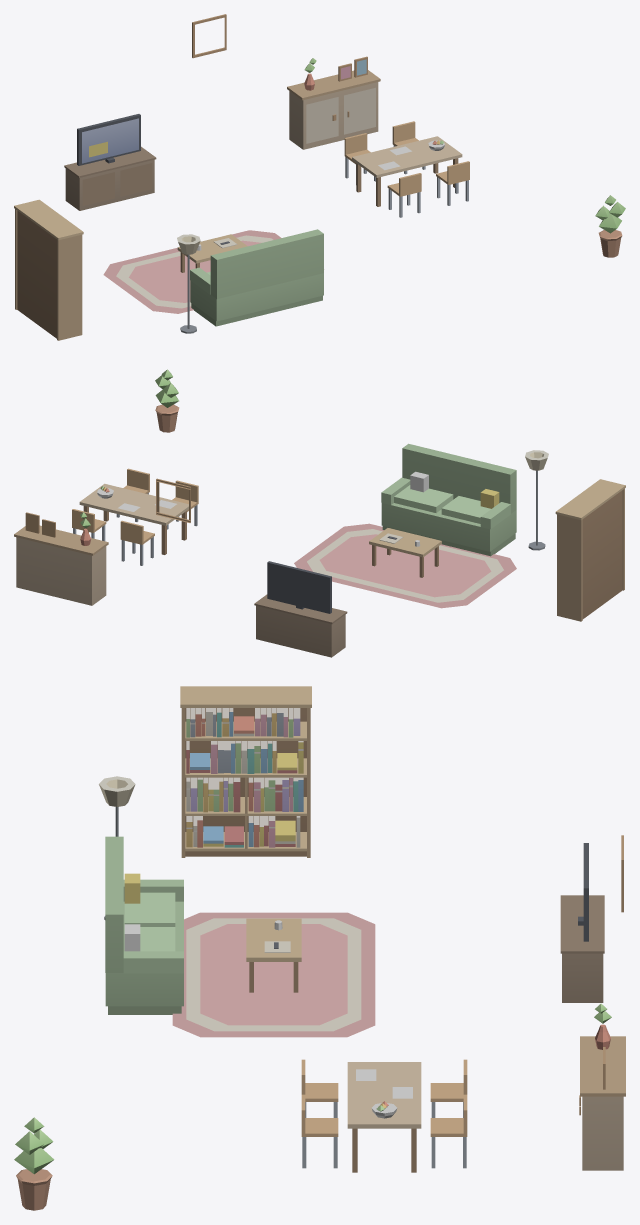
The model's file is rumah3_interior_props.glb.
3 renders of one model, top to bottom at view 1: azimuth 30°, elevation 25°; view 2: azimuth 150°, elevation 25°; view 3: azimuth 270°, elevation 25°, orthographic. The views are drawn at different scales.
Parts seen in each view (by area): view 1: sofa, rak_buku, unit_tv, kabinet, meja_makan, lalu_permaidani, pasu_1, meja_kopi, lampu_lantai; view 2: sofa, lalu_permaidani, rak_buku, kabinet, unit_tv, meja_makan, meja_kopi, pasu_1, lampu_lantai, lalu_bingkai; view 3: rak_buku, lalu_permaidani, sofa, meja_makan, kabinet, unit_tv, meja_kopi, pasu_1, lampu_lantai.
Part boxes in pixels (box(x1,y1,x2,y2)): sofa: box(190, 229, 323, 326); rak_buku: box(14, 199, 83, 340); unit_tv: box(64, 114, 156, 210); kabinet: box(287, 56, 380, 149); meja_makan: box(344, 121, 469, 217); lalu_permaidani: box(103, 230, 324, 313); pasu_1: box(595, 195, 625, 257); meja_kopi: box(177, 234, 247, 272); lampu_lantai: box(177, 234, 200, 333); sofa: box(381, 443, 516, 556); lalu_permaidani: box(294, 523, 516, 608); rak_buku: box(555, 479, 625, 621); kabinet: box(14, 512, 108, 605); unit_tv: box(254, 561, 347, 657); meja_makan: box(72, 468, 198, 565); meja_kopi: box(369, 528, 441, 577); pasu_1: box(155, 369, 179, 432); lampu_lantai: box(525, 450, 548, 550); lalu_bingkai: box(156, 478, 190, 522); rak_buku: box(180, 686, 311, 857); lalu_permaidani: box(172, 912, 375, 1037); sofa: box(105, 836, 183, 1014); meja_makan: box(301, 1059, 467, 1172); kabinet: box(579, 1003, 625, 1170); unit_tv: box(560, 843, 604, 1002); meja_kopi: box(246, 918, 301, 992); pasu_1: box(14, 1117, 54, 1210); lampu_lantai: box(99, 776, 135, 919).
Size of the model in its own units: 9.65 by 2.52 by 6.64.
